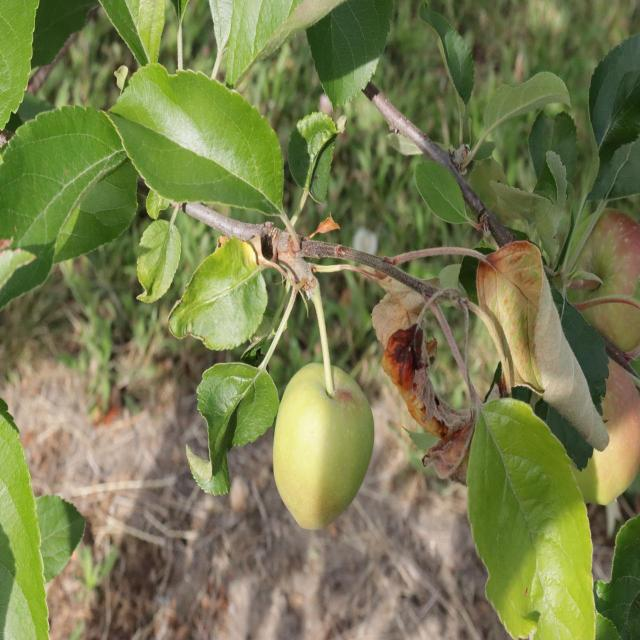-FireBlight-: (369, 276, 473, 479)
